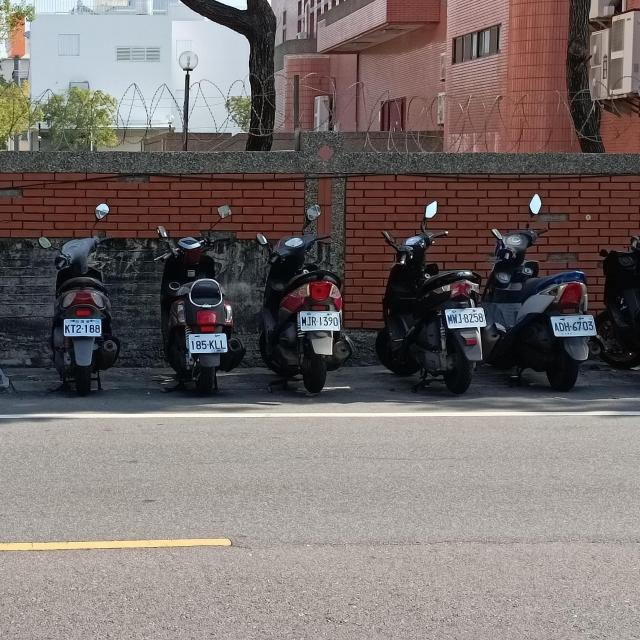W: (548, 313, 596, 338), (443, 306, 486, 329), (298, 310, 341, 331), (188, 334, 227, 354), (63, 318, 102, 336)
